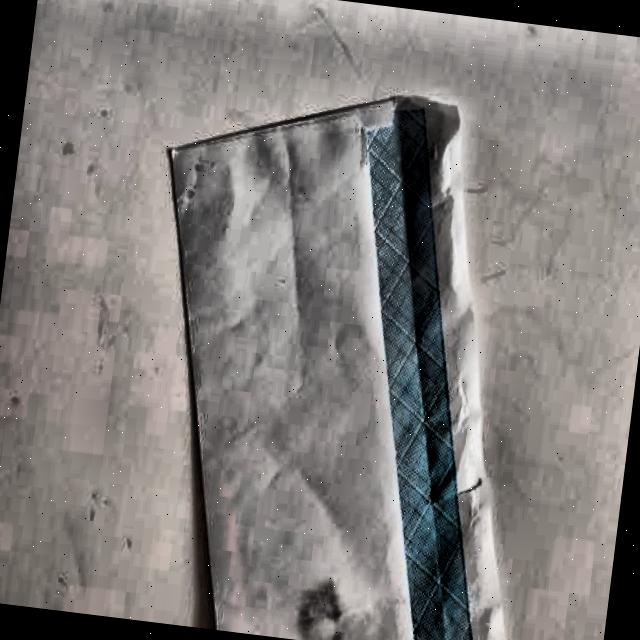paper: (106, 54, 561, 640)
